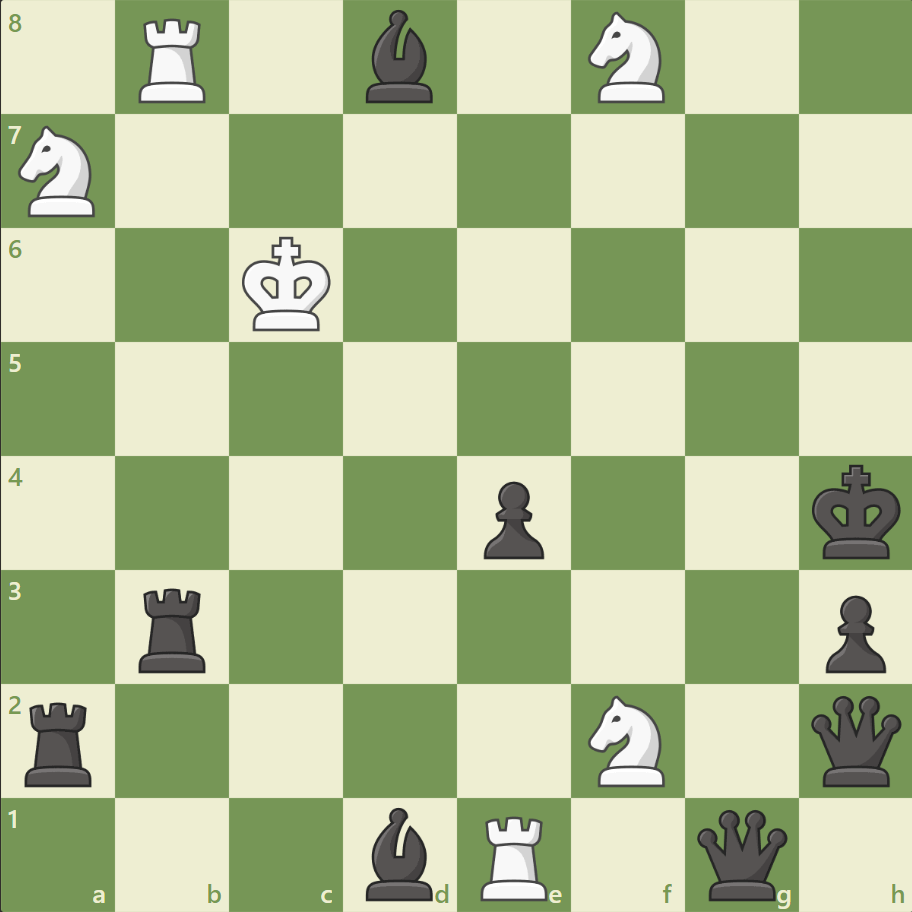K: (238, 231, 338, 339)
N: (579, 7, 676, 110), (579, 688, 676, 791), (11, 121, 108, 223)
R: (473, 806, 556, 904), (133, 12, 215, 109)
b: (358, 6, 442, 109), (358, 801, 442, 904)
k: (806, 458, 906, 566)
p: (474, 473, 549, 564), (815, 586, 889, 677)
q: (805, 690, 904, 789), (691, 804, 790, 903)
r: (19, 693, 102, 790), (133, 579, 215, 676)
